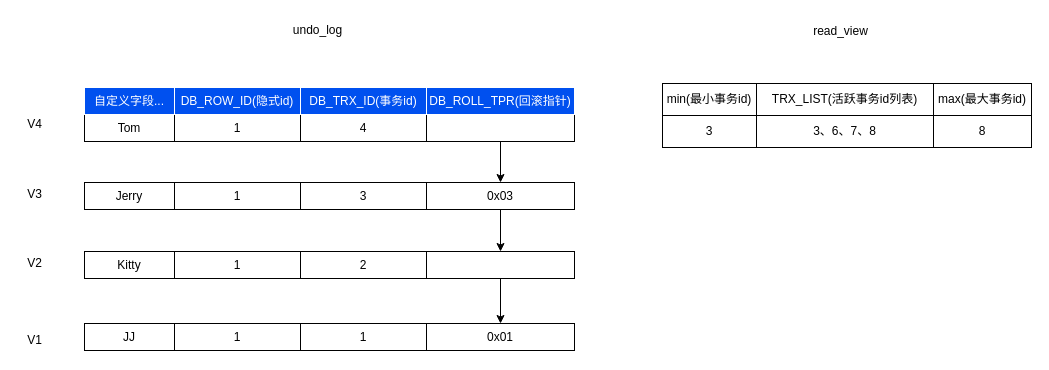
This 1049x370 diagram has some shape labels left out. Each missing label, with the centre of its shape:
0x02: the point at 500,264
0x04: the point at 500,128
